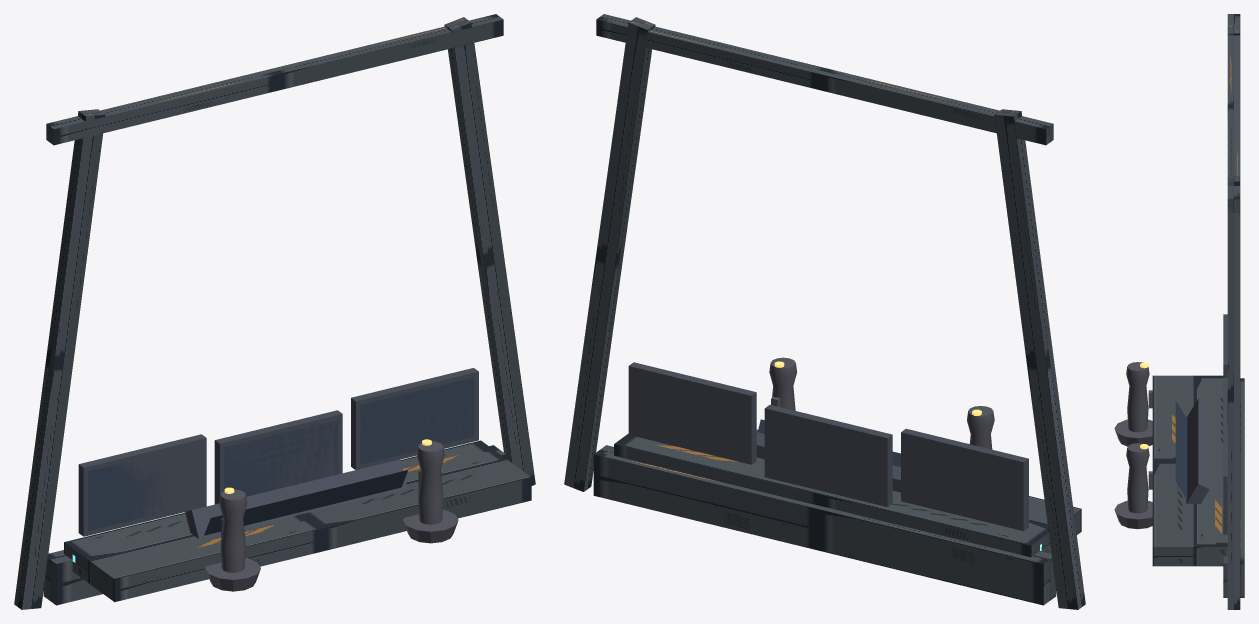
The model's file is cockpit.glb.
3 views of the same model, side by side, from view 1: azimuth 30°, elevation 25°; view 2: azimuth 150°, elevation 25°; view 3: azimuth 270°, elevation 25° (orthographic). The views are drawn at different scales.
Parts seen in each view (by area): view 1: CockpitFrame, PanelBezels, panel_weapons, panel_radar, panel_schematic, ConsoleHousing, stick_R, stick_L, panel_console; view 2: CockpitFrame, PanelBezels, stick_R, stick_L; view 3: CockpitFrame, stick_R, ConsoleHousing, stick_L, PanelBezels, panel_console.
Part boxes in pixels (x1,y1,x2,y2): CockpitFrame: [14, 14, 535, 609]; PanelBezels: [78, 368, 478, 536]; panel_weapons: [360, 377, 474, 464]; panel_radar: [224, 420, 338, 496]; panel_schematic: [88, 458, 201, 530]; ConsoleHousing: [185, 459, 407, 539]; stick_R: [403, 439, 458, 543]; stick_L: [205, 487, 260, 591]; panel_console: [204, 470, 407, 535]; CockpitFrame: [564, 14, 1085, 609]; PanelBezels: [628, 362, 1028, 531]; stick_R: [769, 357, 796, 410]; stick_L: [967, 406, 994, 449]; CockpitFrame: [1152, 14, 1244, 609]; stick_R: [1114, 443, 1152, 529]; ConsoleHousing: [1186, 398, 1209, 503]; stick_L: [1114, 362, 1152, 446]; PanelBezels: [1223, 314, 1227, 534]; panel_console: [1175, 400, 1187, 499].
Size of the model in its own units: 2.34 by 2.09 by 0.61.
6 materials, 1 textured.
